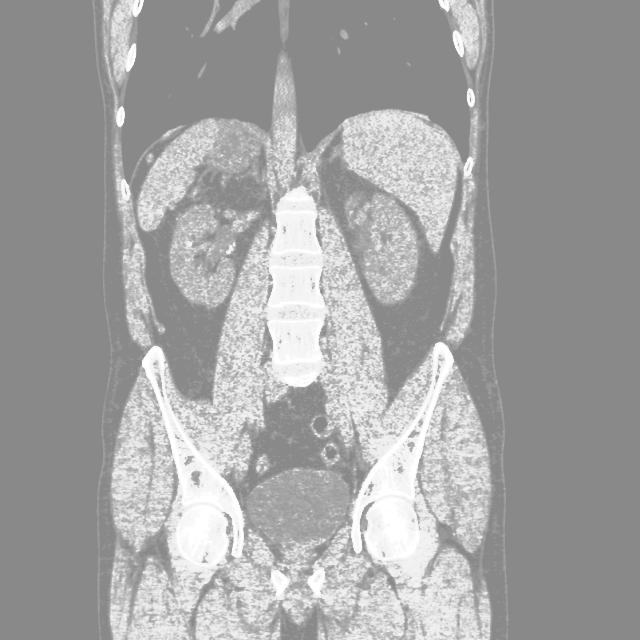STONE: (60, 83, 528, 331)
